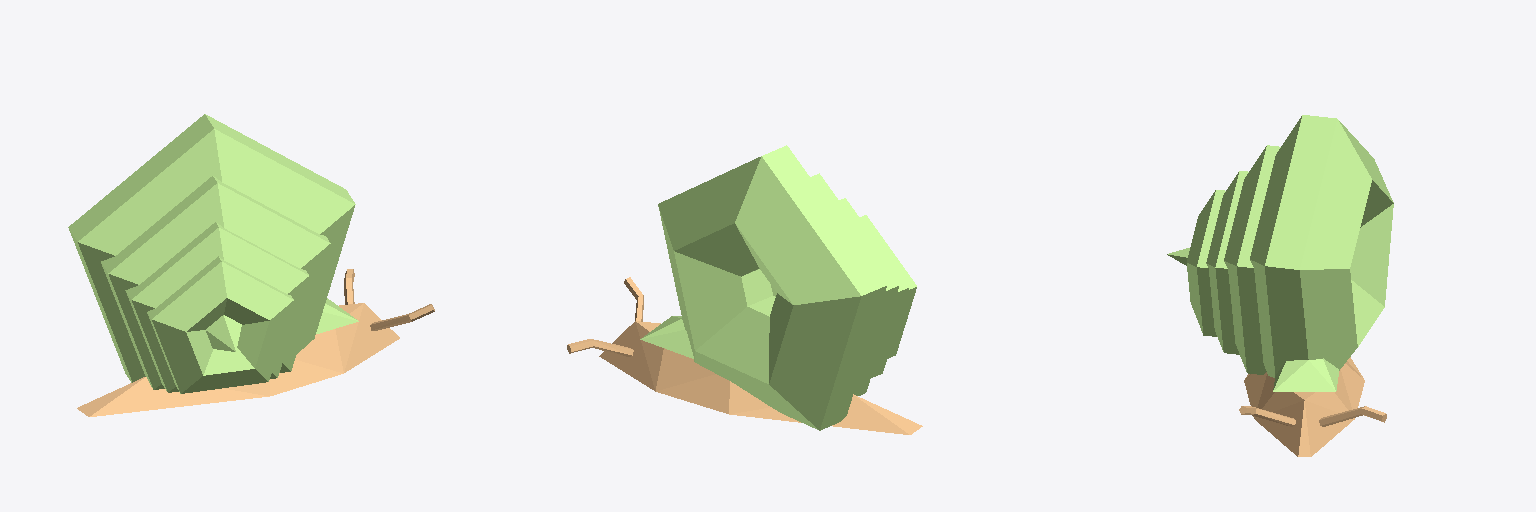
The model's file is mysterysnail.obj.
The picture shows the model from 3 angles: view 1: azimuth 30°, elevation 25°; view 2: azimuth 150°, elevation 25°; view 3: azimuth 270°, elevation 25°; orthographic projection.
Parts seen in each view (by area): view 1: Mesh2 Model, Mesh1 Model, Mesh3 Model; view 2: Mesh2 Model, Mesh1 Model; view 3: Mesh2 Model, Mesh1 Model.
Part boxes in pixels (left/top/right/bottom): Mesh2 Model: left=68, top=114, right=355, bottom=393; Mesh1 Model: left=77, top=269, right=434, bottom=416; Mesh3 Model: left=206, top=315, right=241, bottom=351; Mesh2 Model: left=658, top=145, right=916, bottom=430; Mesh1 Model: left=567, top=277, right=922, bottom=434; Mesh2 Model: left=1187, top=115, right=1393, bottom=377; Mesh1 Model: left=1239, top=357, right=1386, bottom=456.
Size of the model in its own units: 7.37 by 5.53 by 4.51.